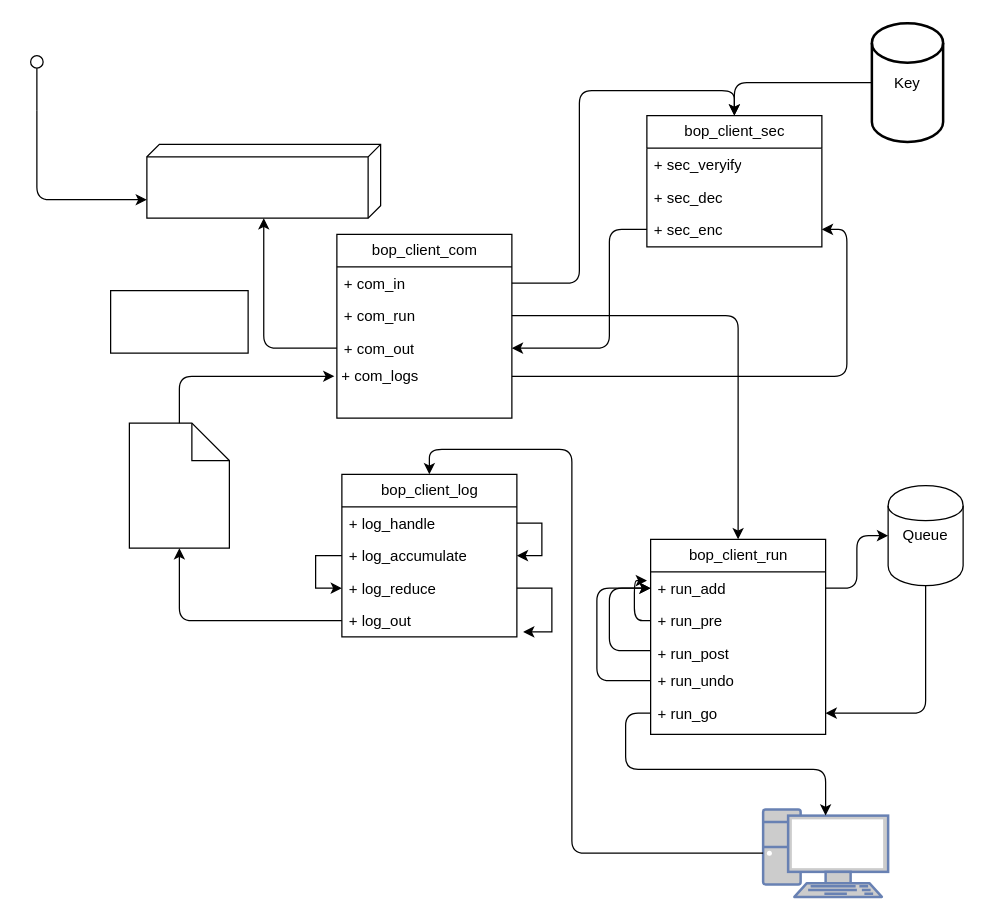
This 985x919 diagram has some shape labels left out. Here are the shapes that lost their labels. From the top down, the centre of each, then its label:
(263,180): Communication with Server
(178,321): bop_server supervisor
(178,485): Local Log
